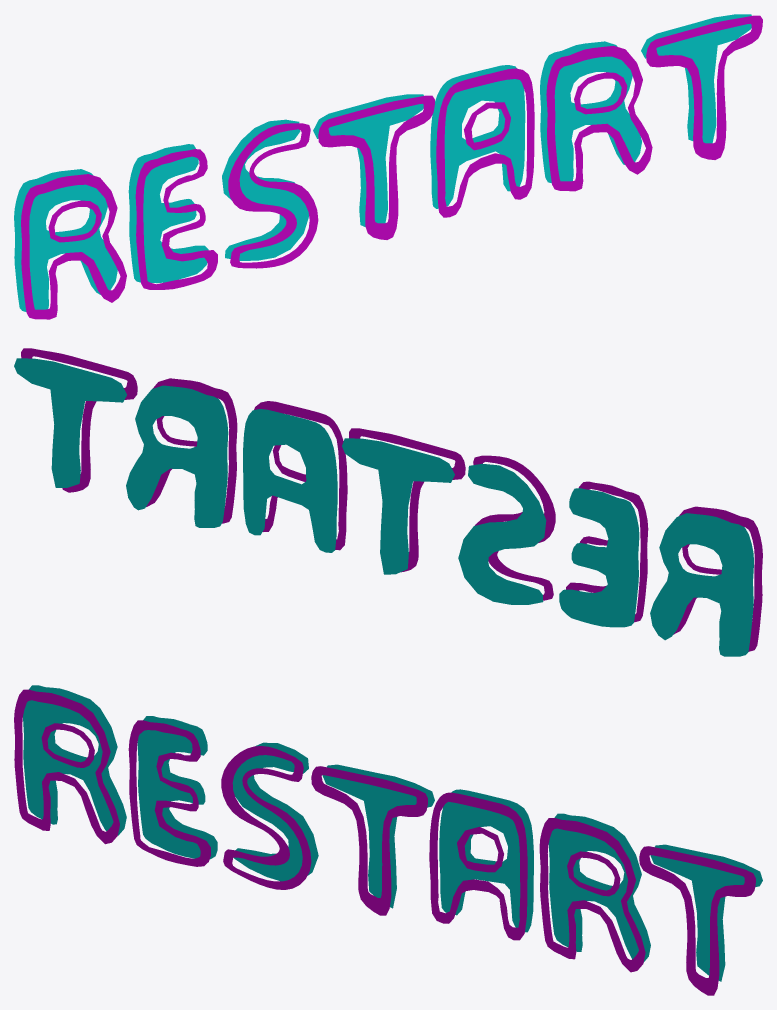
The model's file is mesh_text_restart.fbx.
The picture shows the model from 3 angles, top to bottom: view 1: azimuth 30°, elevation 25°; view 2: azimuth 150°, elevation 25°; view 3: azimuth 330°, elevation 25°; orthographic projection.
Visible parts, largest first — view 1: mesh_text_restart, mesh_text_restart1; view 2: mesh_text_restart, mesh_text_restart1; view 3: mesh_text_restart, mesh_text_restart1.
Part boxes in pixels (x1=…): mesh_text_restart: x1=14, y1=14, x2=751, y2=311; mesh_text_restart1: x1=21, y1=15, x2=762, y2=319; mesh_text_restart: x1=14, y1=358, x2=753, y2=656; mesh_text_restart1: x1=21, y1=348, x2=762, y2=651; mesh_text_restart: x1=23, y1=685, x2=762, y2=981; mesh_text_restart1: x1=14, y1=689, x2=755, y2=995.
Bounding box in the file's own units: 0.1152 × 0.0211 × 0.00212.
